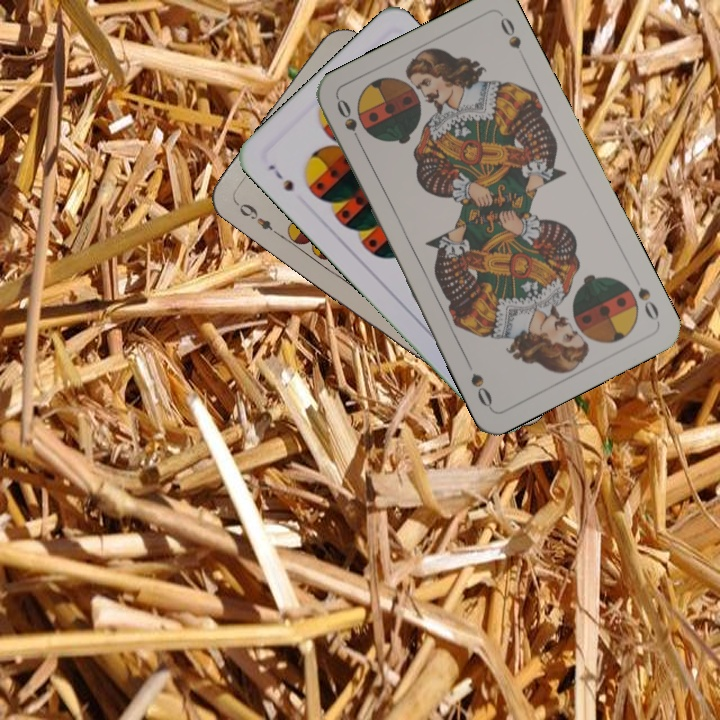E9: (233, 198, 283, 239)
S7: (263, 160, 296, 194)
SO: (332, 94, 366, 151), (633, 283, 662, 325)
